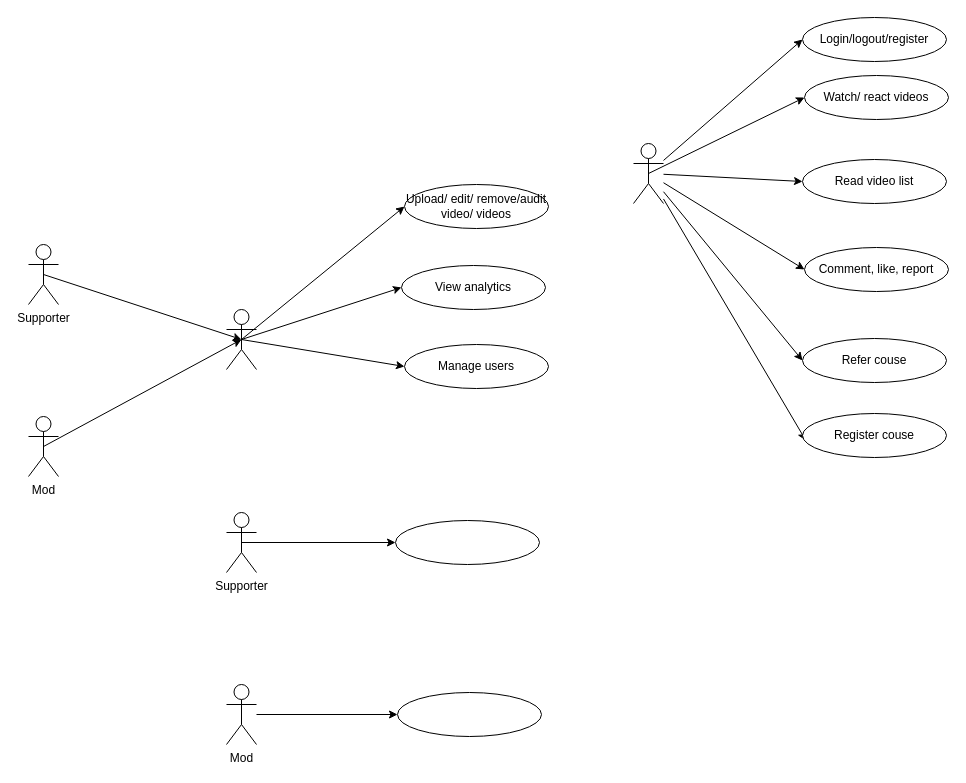
This 966x783 diagram has some shape labels left out. The shapes that lost their labels are listed below. From the top down, each one's centre as x and y in pixels, then its label:
At (648,173): "User".
At (241,339): "Admin".
At (467,542): "Manage subtitles".
At (469,714): "Delete comments".
